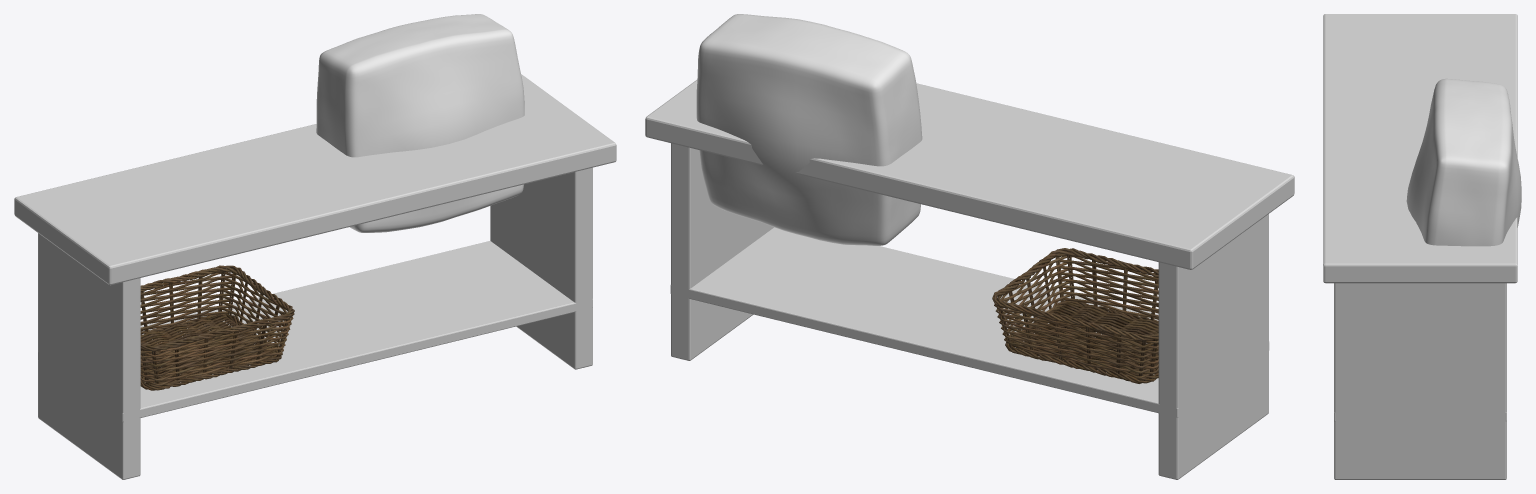
File: hall_bench__0.glb
3 views of the same model, side by side, from view 1: azimuth 30°, elevation 25°; view 2: azimuth 150°, elevation 25°; view 3: azimuth 270°, elevation 25° (orthographic). The views are drawn at different scales.
Visible parts, largest first — view 1: bench top, bench shelf, pillow.001, bench leg, wicker_basket_01.002, bench leg.001; view 2: bench top, pillow.001, bench shelf, bench leg, wicker_basket_01.002, bench leg.001; view 3: bench top, bench leg.001, pillow.001, bench shelf.
Boxes of the visible parts, x1,y1,x2,y2 form: bench top: [14, 74, 616, 285]; bench shelf: [38, 240, 592, 422]; pillow.001: [316, 14, 524, 232]; bench leg: [38, 233, 140, 479]; wicker_basket_01.002: [140, 265, 294, 390]; bench leg.001: [490, 167, 592, 369]; bench top: [645, 80, 1294, 269]; pillow.001: [696, 14, 922, 245]; bench shelf: [670, 227, 1269, 417]; bench leg: [1158, 214, 1268, 479]; wicker_basket_01.002: [992, 248, 1158, 383]; bench leg.001: [671, 143, 773, 360]; bench top: [1323, 14, 1517, 283]; bench leg.001: [1334, 283, 1506, 479]; pillow.001: [1406, 78, 1521, 246]; bench shelf: [1334, 412, 1506, 421].
Size of the model in its own units: 1.1 by 0.6453 by 0.3675.
3 materials, 1 textured.
